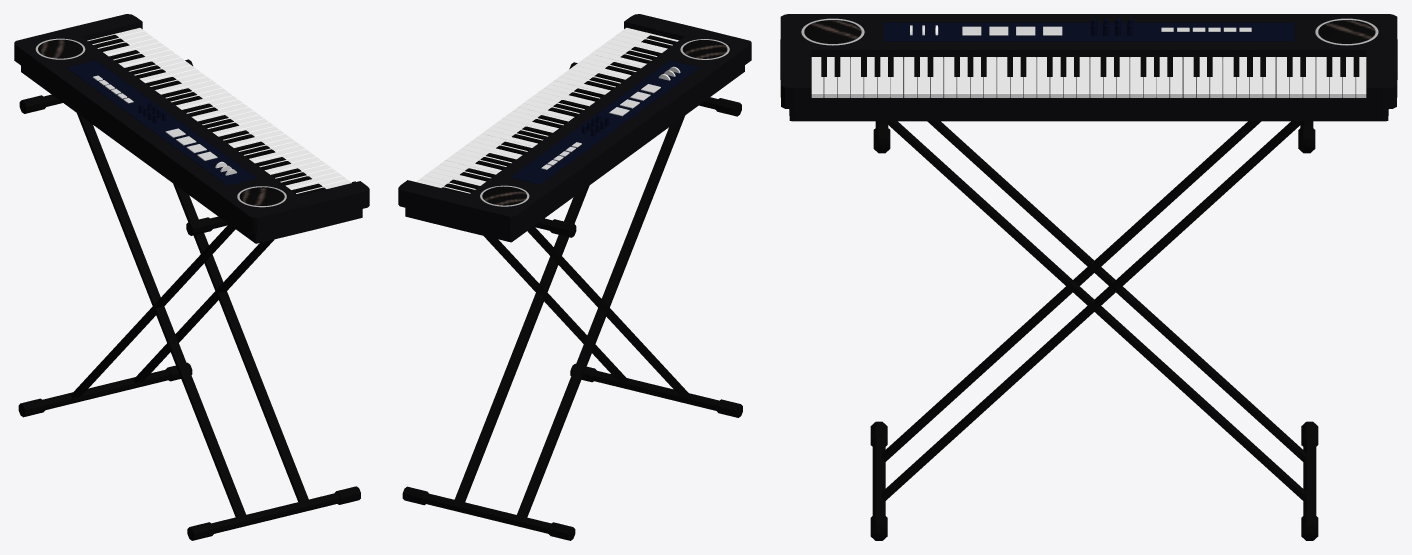
Rendered from Tastiera_.fbx.
3 views of the same model, side by side, from view 1: azimuth 30°, elevation 25°; view 2: azimuth 150°, elevation 25°; view 3: azimuth 270°, elevation 25° (orthographic). The views are drawn at different scales.
Parts seen in each view (by area): view 1: control_panel, Gambe, Cube, bordo2; view 2: control_panel, Gambe, bordo2, Cube; view 3: control_panel, Gambe, bordo2, Cube.
Boxes of the visible parts, x1,y1,x2,y2 form: control_panel: (14,14,369,243); Gambe: (18,59,360,540); Cube: (237,186,286,207); bordo2: (35,38,85,59); control_panel: (398,14,751,242); Gambe: (402,62,742,540); bordo2: (480,185,529,206); Cube: (680,39,729,59); control_panel: (780,14,1397,121); Gambe: (870,121,1318,540); bordo2: (1315,18,1378,45); Cube: (801,18,864,45).
Bounding box in the file's own units: 41.33 × 81.79 × 102.
